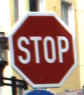stopsign: (9, 13, 77, 87)
